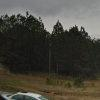Tree: (10, 9, 100, 80)
